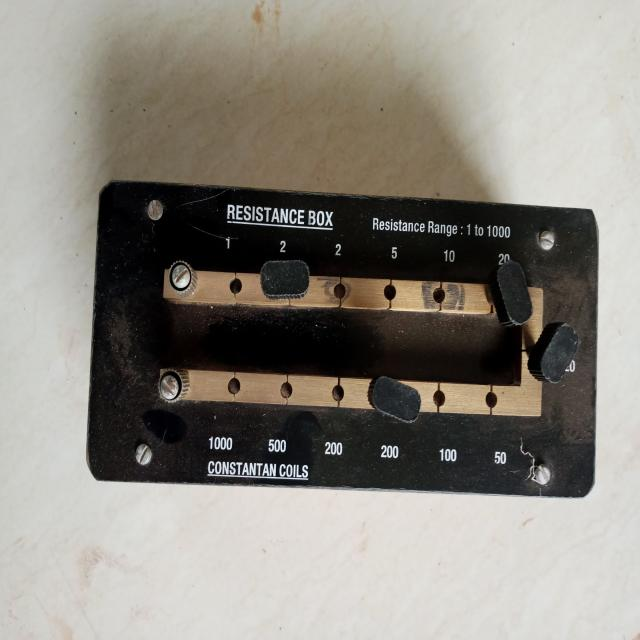Pinned Resistance Box: (78, 172, 608, 510)
